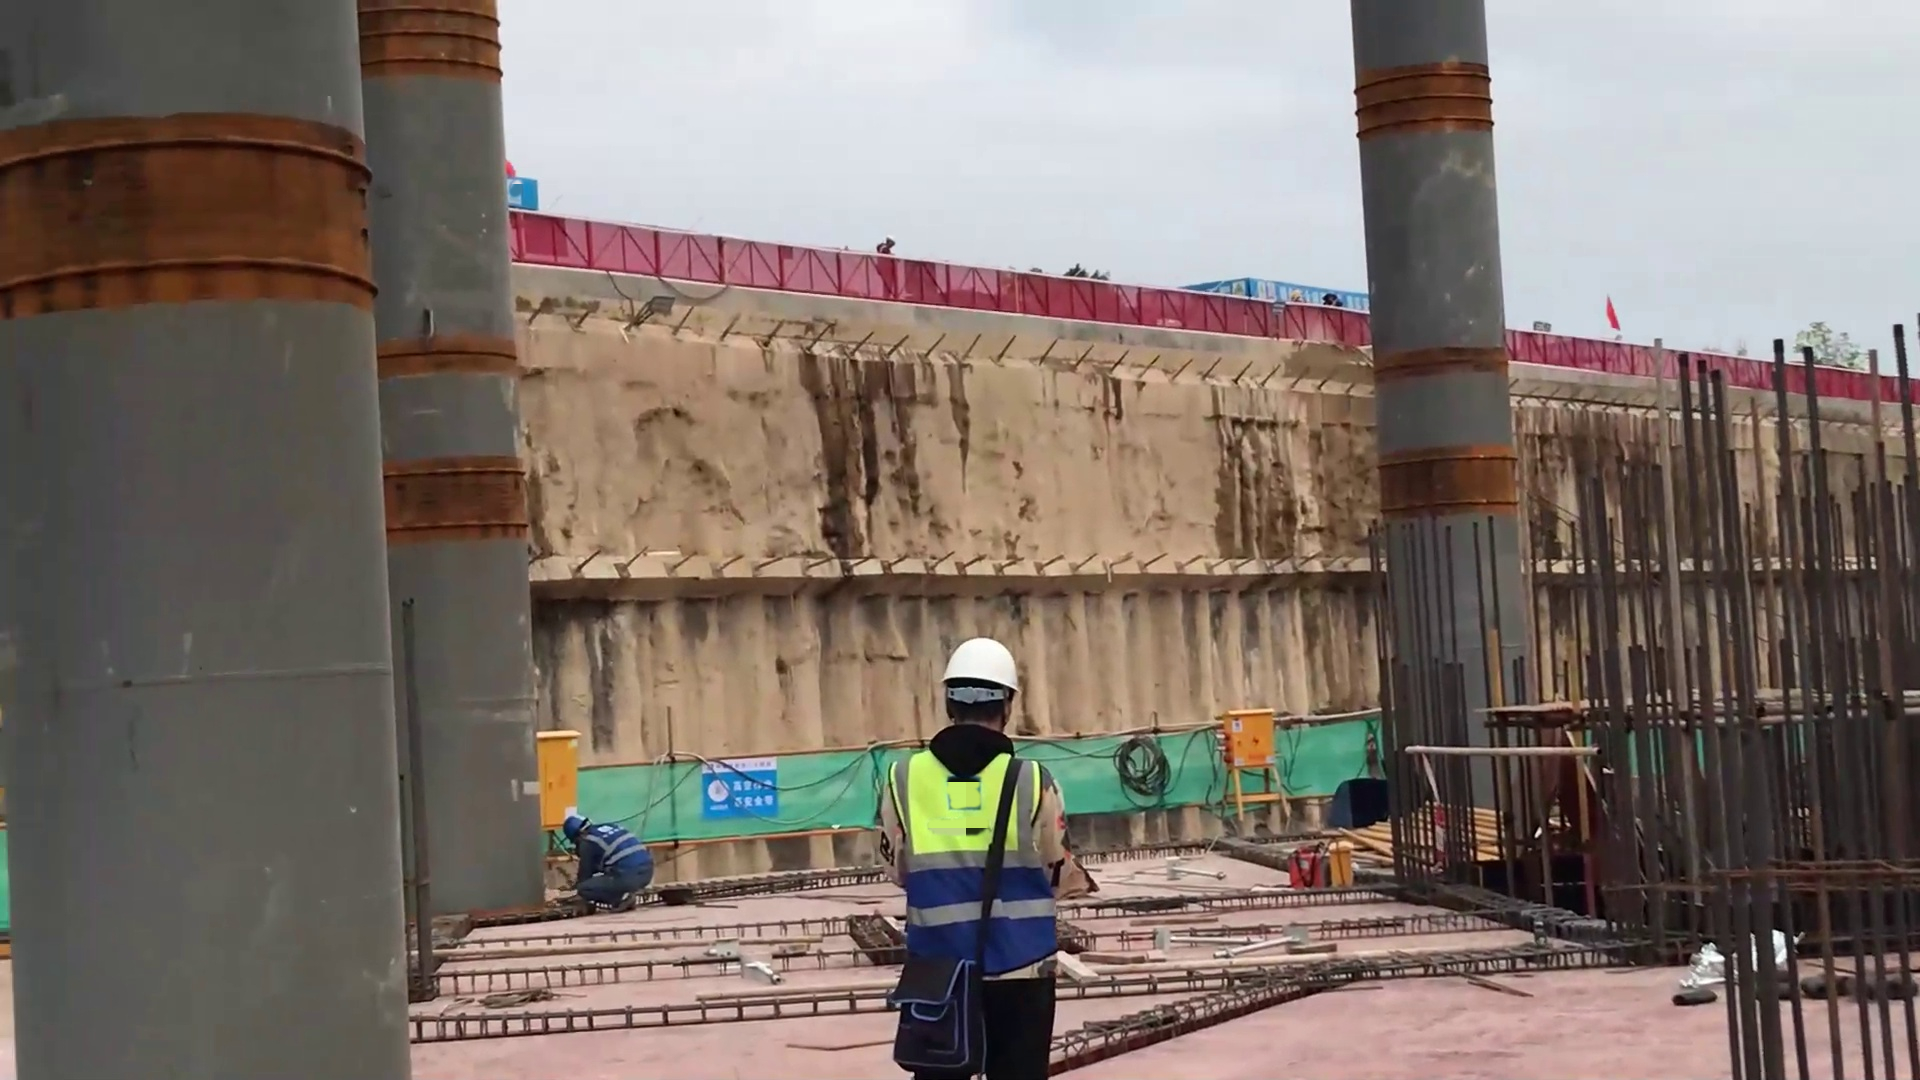ebox: (1211, 698, 1293, 858), (533, 712, 585, 829)
fence: (519, 167, 1253, 385), (1517, 293, 1903, 420)
helmet: (916, 610, 1025, 708), (567, 806, 600, 841)
person: (886, 631, 1063, 1080), (558, 808, 671, 920)
slogan: (677, 742, 794, 840), (1239, 258, 1371, 336)
vest: (881, 723, 1062, 980), (589, 823, 657, 874)
